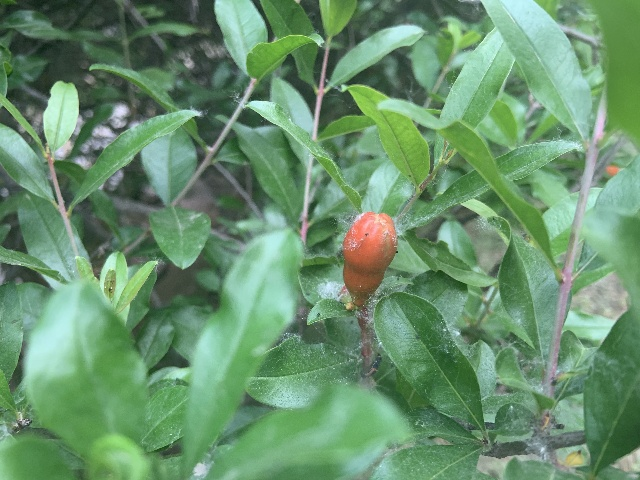bud: (342, 210, 397, 298)
